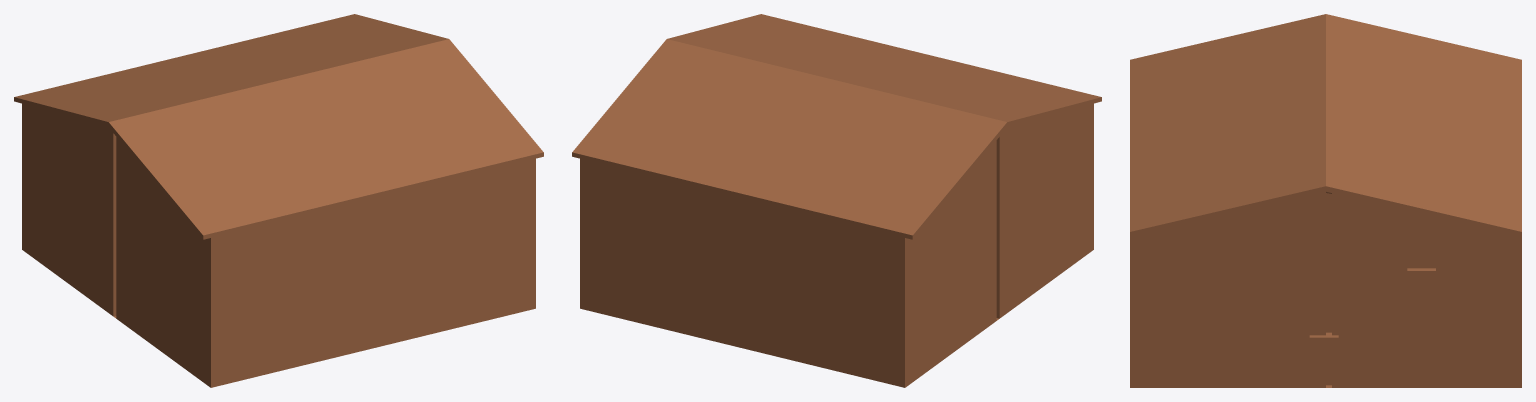
3 renders of one model, left to right at view 1: azimuth 30°, elevation 25°; view 2: azimuth 150°, elevation 25°; view 3: azimuth 270°, elevation 25°, orthographic. The views are drawn at different scales.
Parts seen in each view (by area): view 1: pCube379; view 2: pCube379; view 3: pCube379.
Part boxes in pixels (bbox=[...]): pCube379: bbox=[14, 14, 543, 387]; pCube379: bbox=[572, 14, 1101, 387]; pCube379: bbox=[1130, 14, 1521, 387].
Bounding box in the file's own units: 9.94 × 5.53 × 9.55.
